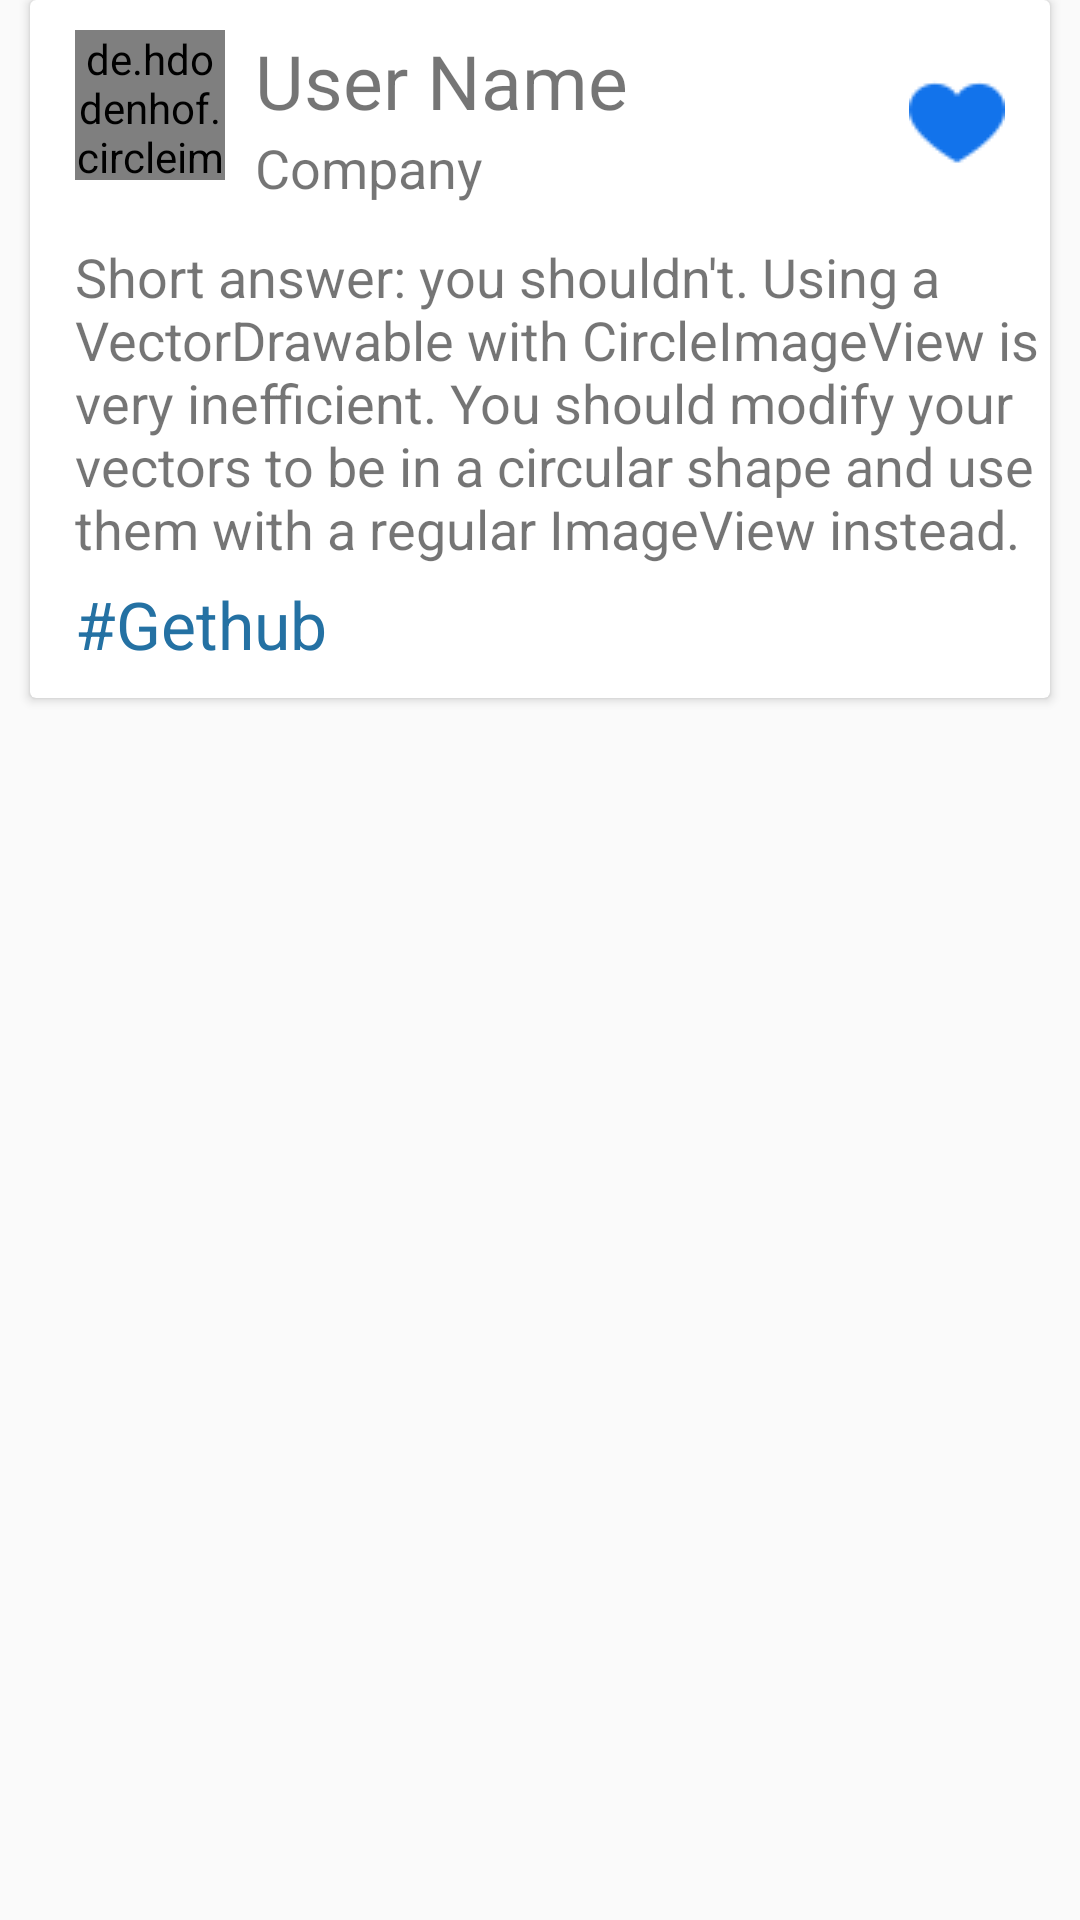

Point at icon controls on the screen. Image size 1080*1920, points as point (x, y).
heart: point (957, 123)
